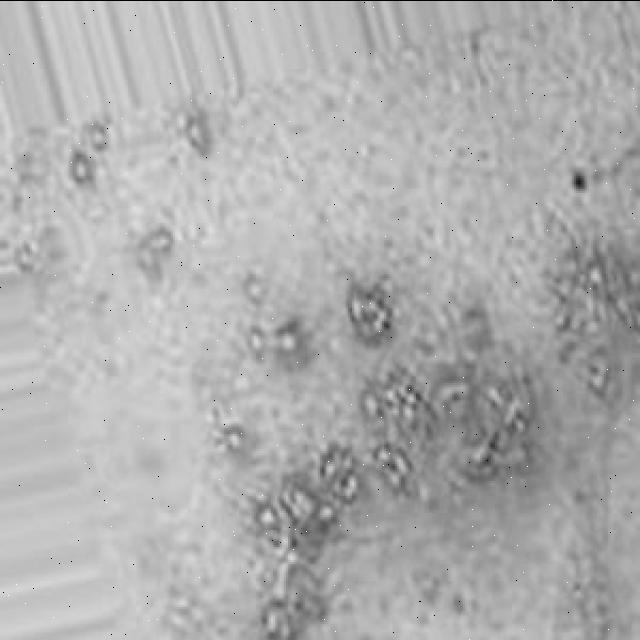Shingles: (257, 287, 531, 639), (550, 247, 640, 390)
